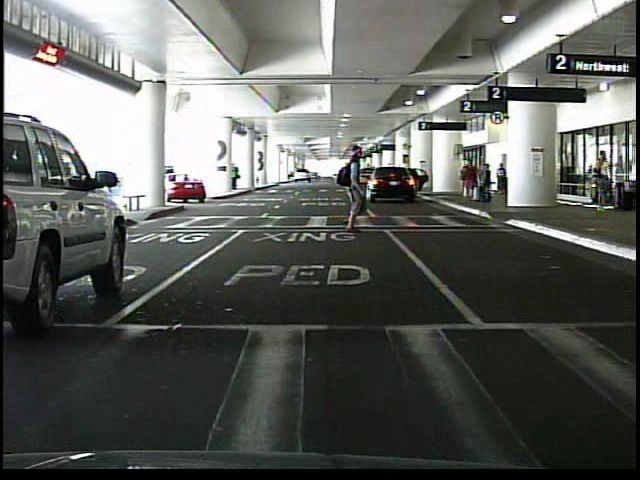person: (327, 151, 377, 235), (594, 153, 610, 214), (459, 160, 481, 203), (480, 166, 493, 201), (497, 164, 507, 193), (232, 164, 241, 191)
